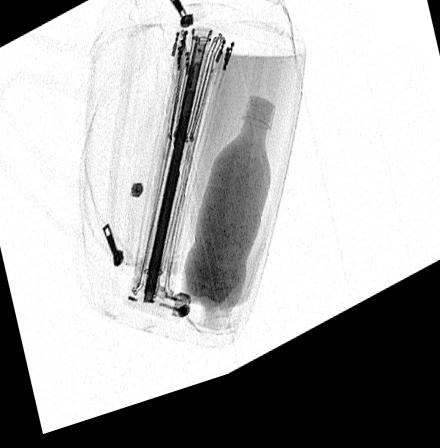Lighter: (125, 280, 191, 329)
